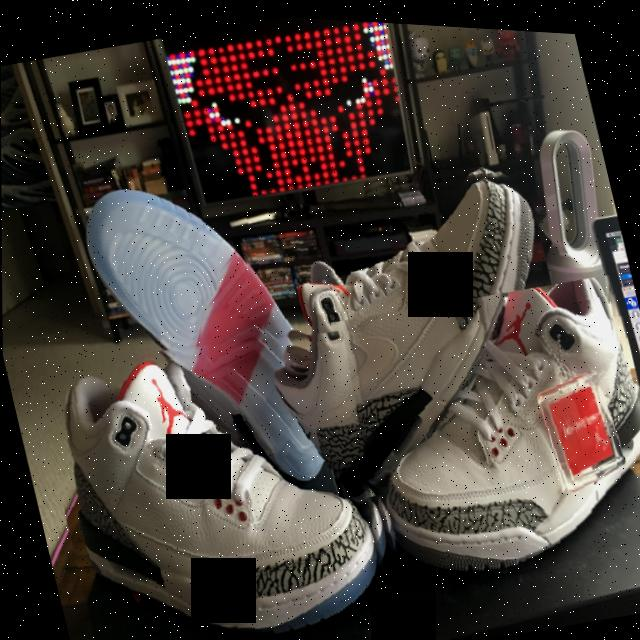shoe: (231, 135, 592, 517), (29, 292, 415, 640), (329, 252, 640, 605)
